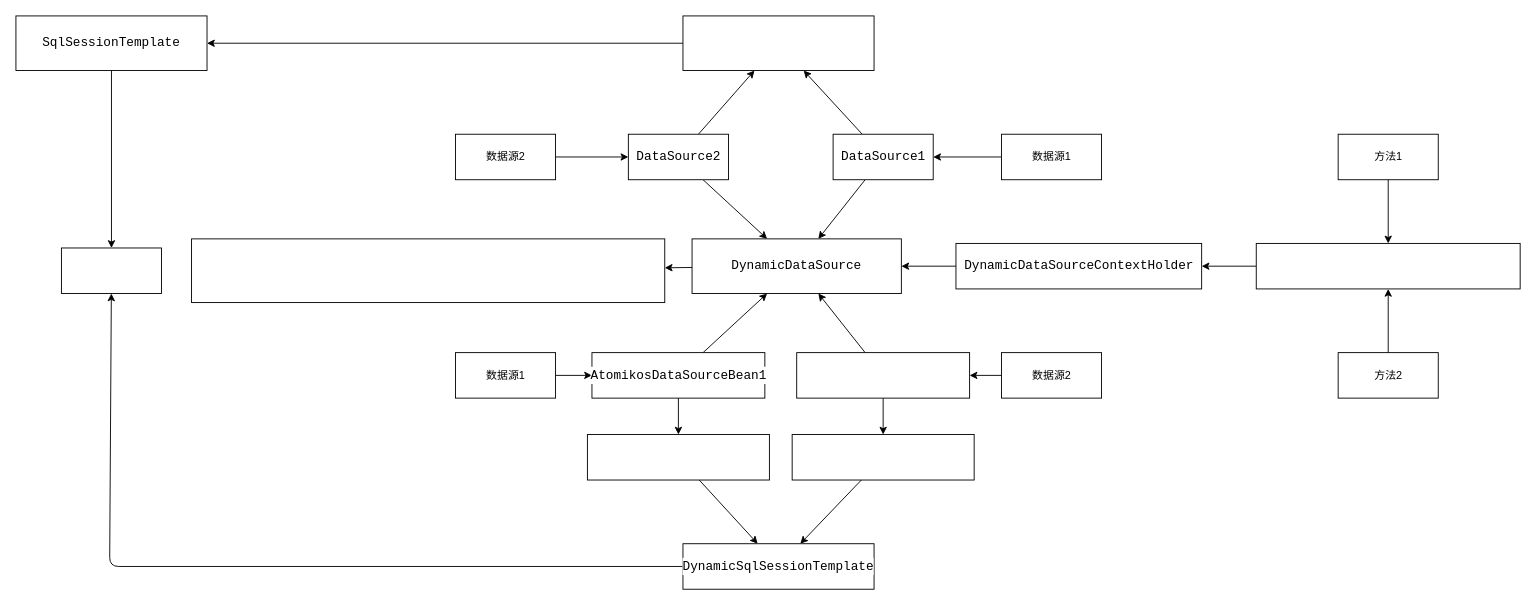
The diagram is 1536 pixels wide and 605 high, and some of its shapes have lost their labels. Each missing label, with the box of its shape:
AtomikosDataSourceBean2: (796, 352, 970, 398)
DataSourceAspect: (1255, 243, 1520, 289)
mybatis: (61, 247, 162, 293)
Spring AbstractRoutingDataSource * determineCurrentLookupKey: (191, 238, 665, 303)
sqlSessionFactory: (682, 15, 874, 71)
SqlSessionFactory1: (586, 434, 769, 480)
SqlSessionFactory2: (791, 434, 974, 480)
